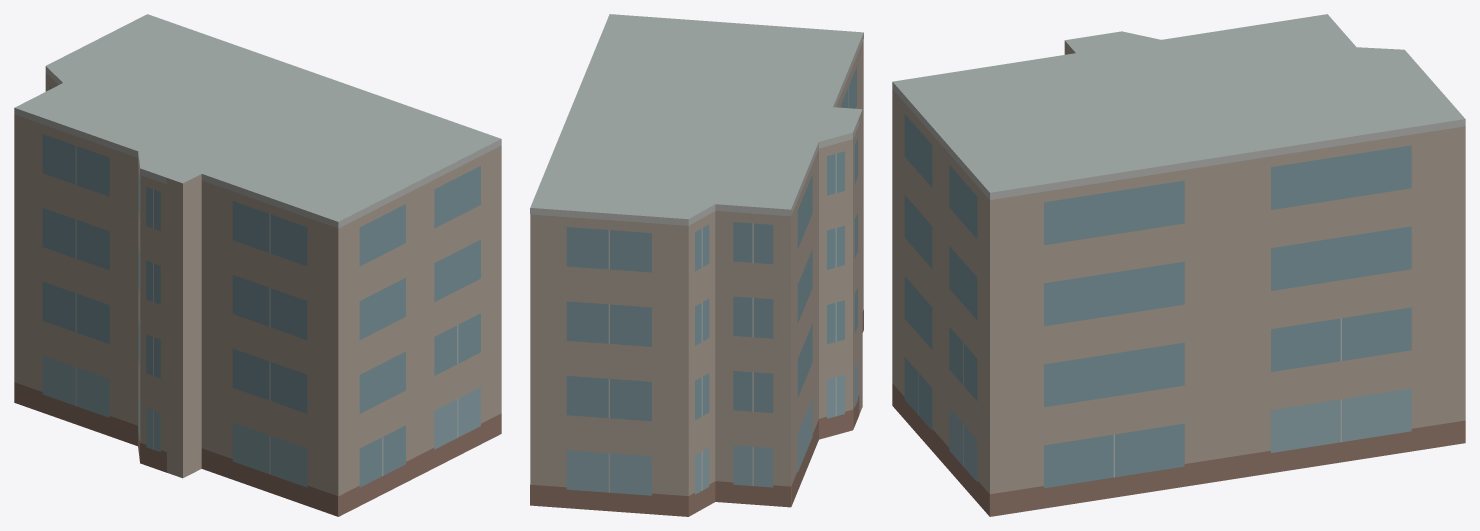
The model's file is survey-upis-32902999.glb.
3 views of the same model, side by side, from view 1: azimuth 30°, elevation 25°; view 2: azimuth 150°, elevation 25°; view 3: azimuth 270°, elevation 25° (orthographic). The views are drawn at different scales.
Visible parts, largest first — view 1: survey-upis-32902999.tmp; view 2: survey-upis-32902999.tmp; view 3: survey-upis-32902999.tmp.
Boxes of the visible parts, x1,y1,x2,y2 form: survey-upis-32902999.tmp: [14, 14, 501, 516]; survey-upis-32902999.tmp: [530, 14, 863, 516]; survey-upis-32902999.tmp: [892, 14, 1465, 516].
Size of the model in its own units: 12.97 by 10.95 by 17.56.
